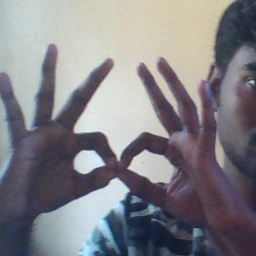B: (62, 107, 186, 202)
